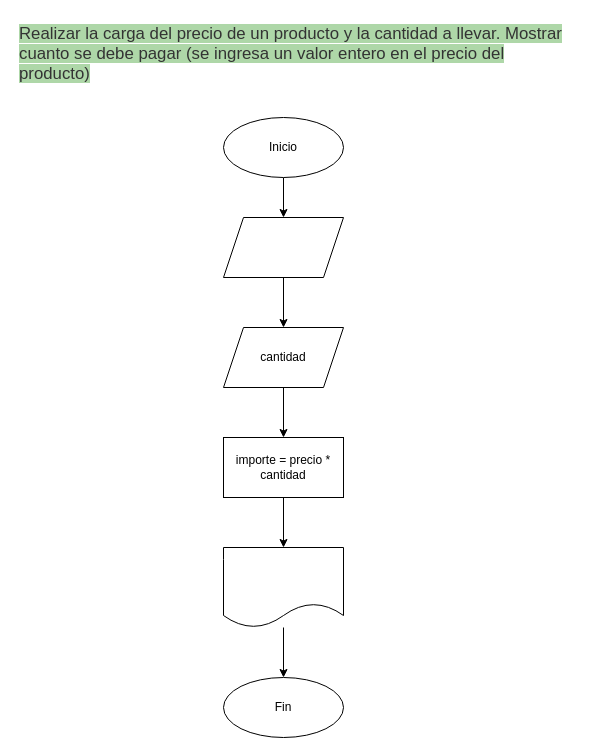
The diagram is 594 pixels wide and 755 high, and some of its shapes have lost their labels. The box of each missing label's shape, as (x1, y1, x2, y2) in pixels:
importe: (222, 546, 344, 628)
precio: (222, 216, 344, 278)
